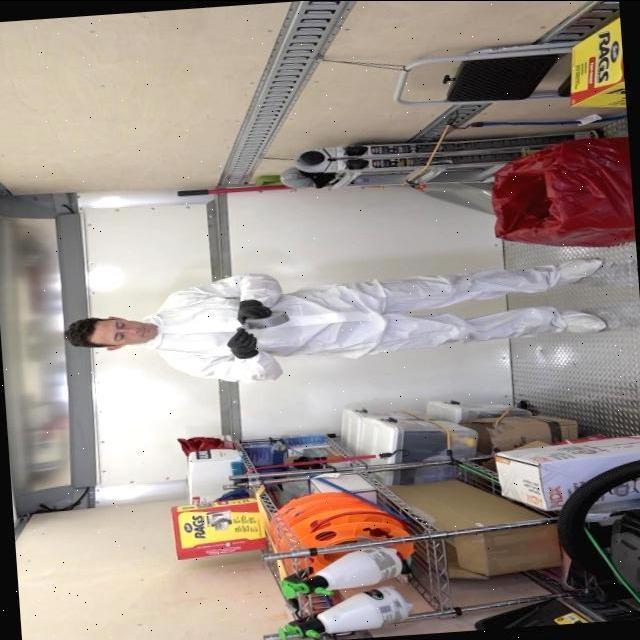apron: (238, 293, 284, 324), (230, 329, 264, 367)
